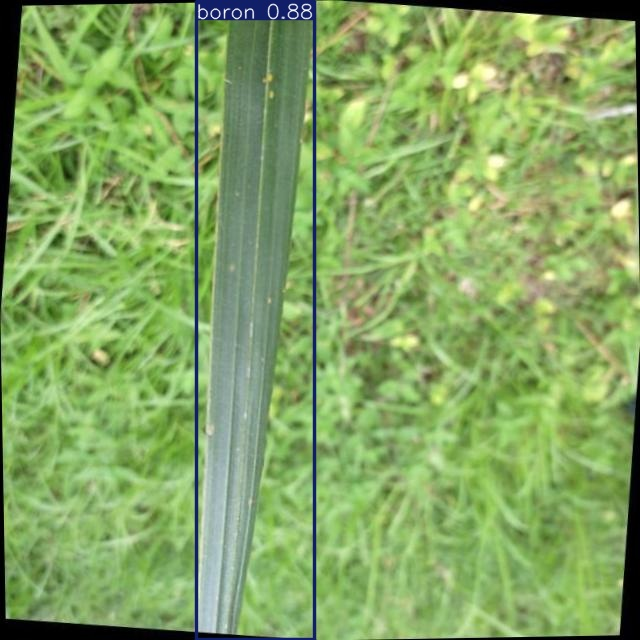nitrogen: (197, 1, 315, 640)
